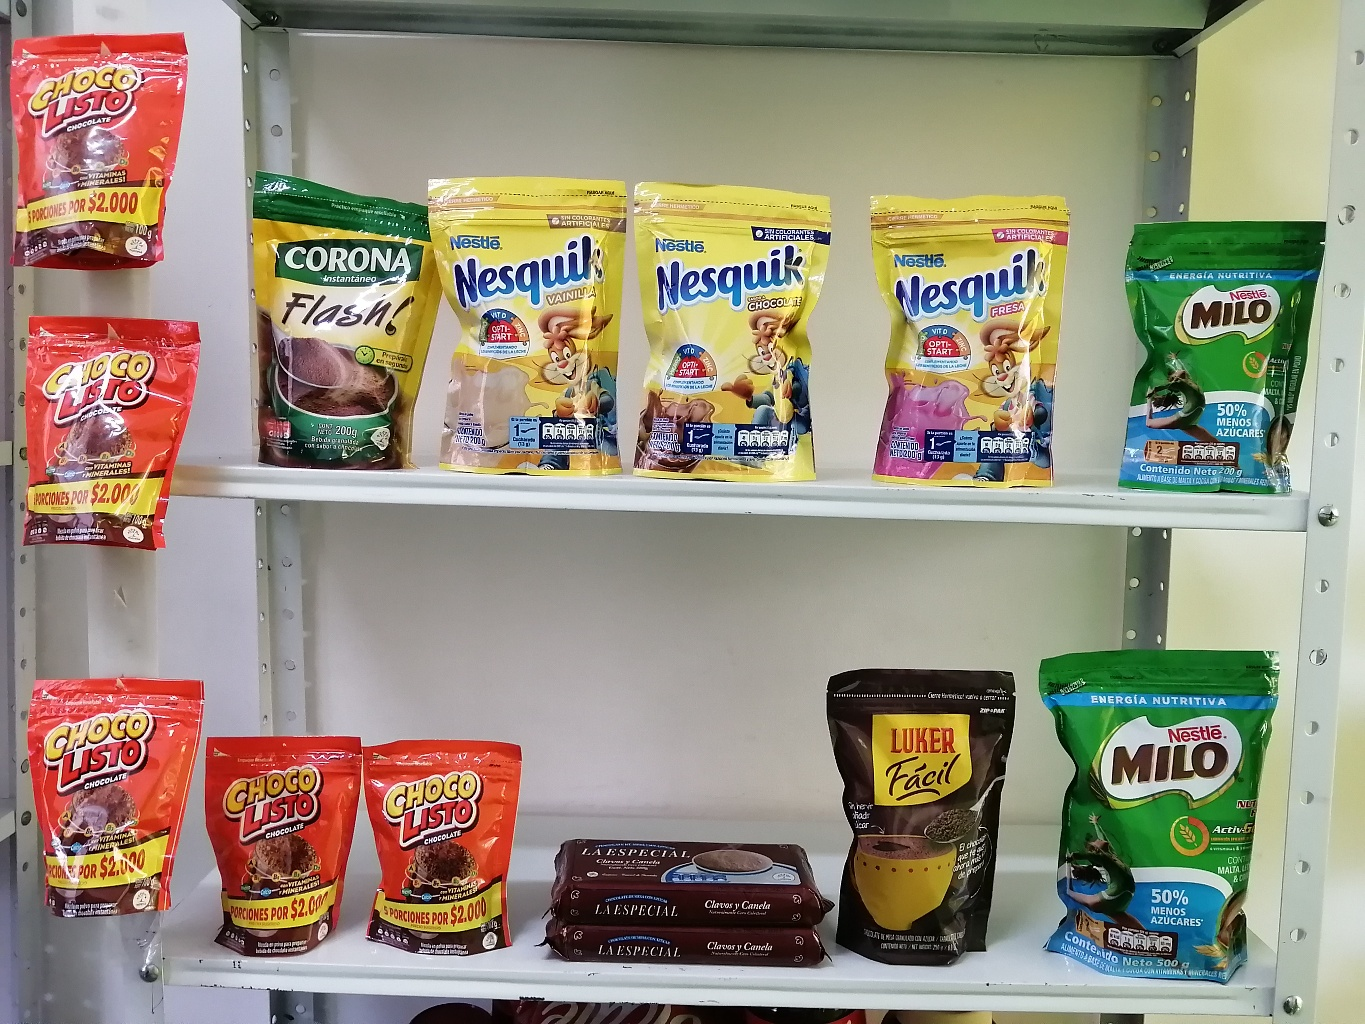COL0170205DYP20000: (1131, 213, 1323, 490)
COL0170205DYP50000: (1033, 636, 1289, 995)
COL0170303DYP20000: (632, 172, 848, 490)
COL0170305DYP20000: (866, 195, 1087, 495)
COL0170306DYP20000: (425, 159, 632, 472)
